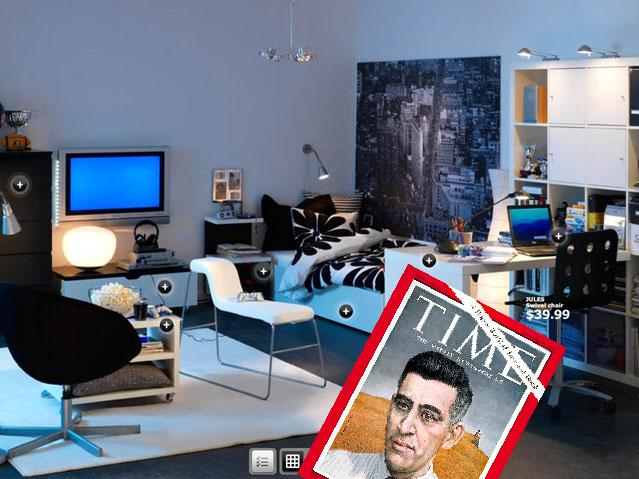times: (293, 262, 571, 479)
